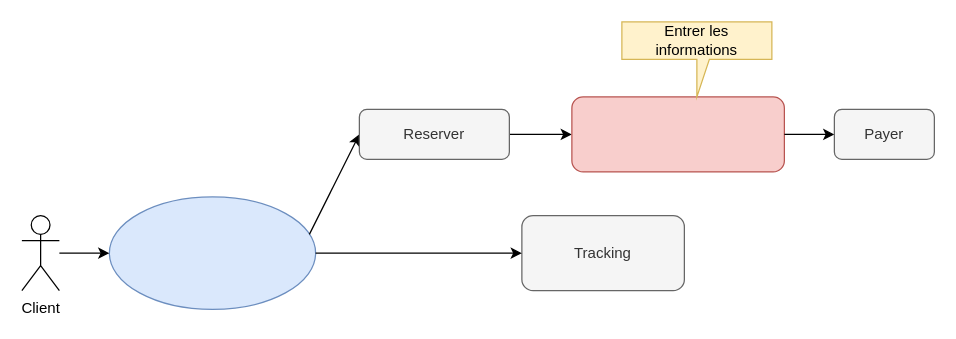
Some shapes in this 956 by 339 pixel diagram are drawn without their labels. Each missing label, with the centre of its shape:
"Scan le QR code" belongs at [212,252].
"Valider l'identification" belongs at [677,134].
